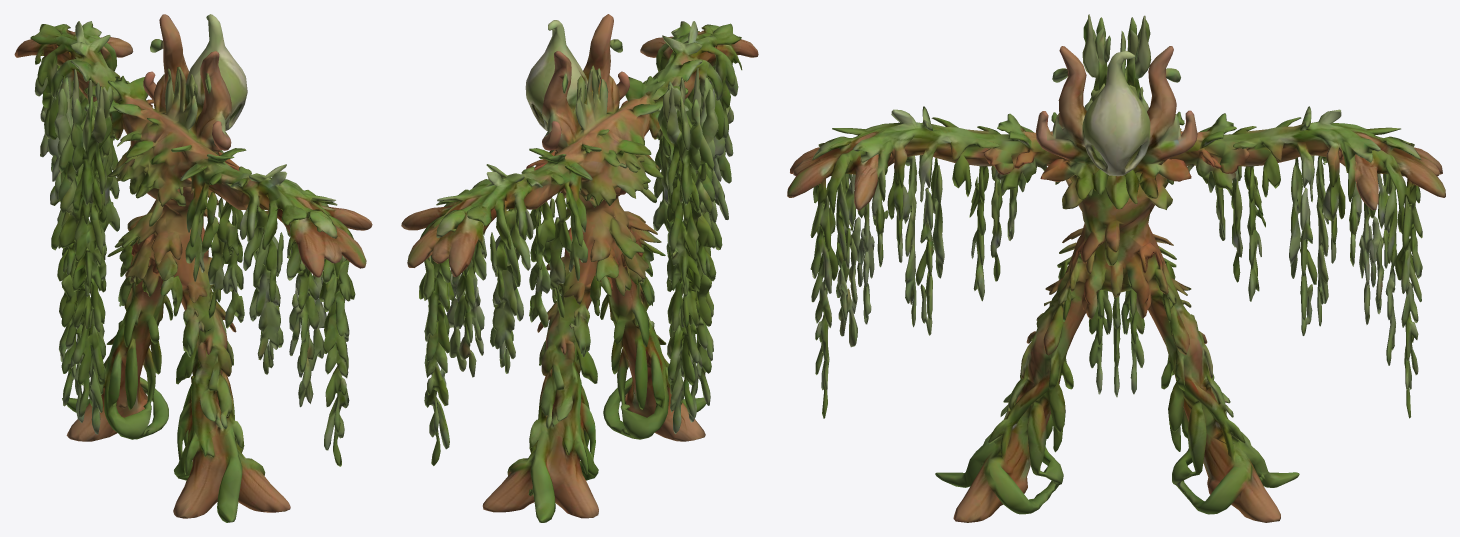
The model's file is n4_lianarch.9a9192c2.glb.
The picture shows the model from 3 angles, left to right: view 1: azimuth 30°, elevation 25°; view 2: azimuth 150°, elevation 25°; view 3: azimuth 270°, elevation 25°; orthographic projection. The views are drawn at different scales.
Visible parts, largest first — view 1: tripo_node_a4ef1a55-6047-4951-be4f-98c28f54fd12; view 2: tripo_node_a4ef1a55-6047-4951-be4f-98c28f54fd12; view 3: tripo_node_a4ef1a55-6047-4951-be4f-98c28f54fd12.
Part boxes in pixels (x1,y1,x2,y2): tripo_node_a4ef1a55-6047-4951-be4f-98c28f54fd12: (14,14,372,522); tripo_node_a4ef1a55-6047-4951-be4f-98c28f54fd12: (401,14,758,522); tripo_node_a4ef1a55-6047-4951-be4f-98c28f54fd12: (787,14,1445,522).
Size of the model in its own units: 0.365 by 0.788 by 0.9983.
1 material, 1 textured.
